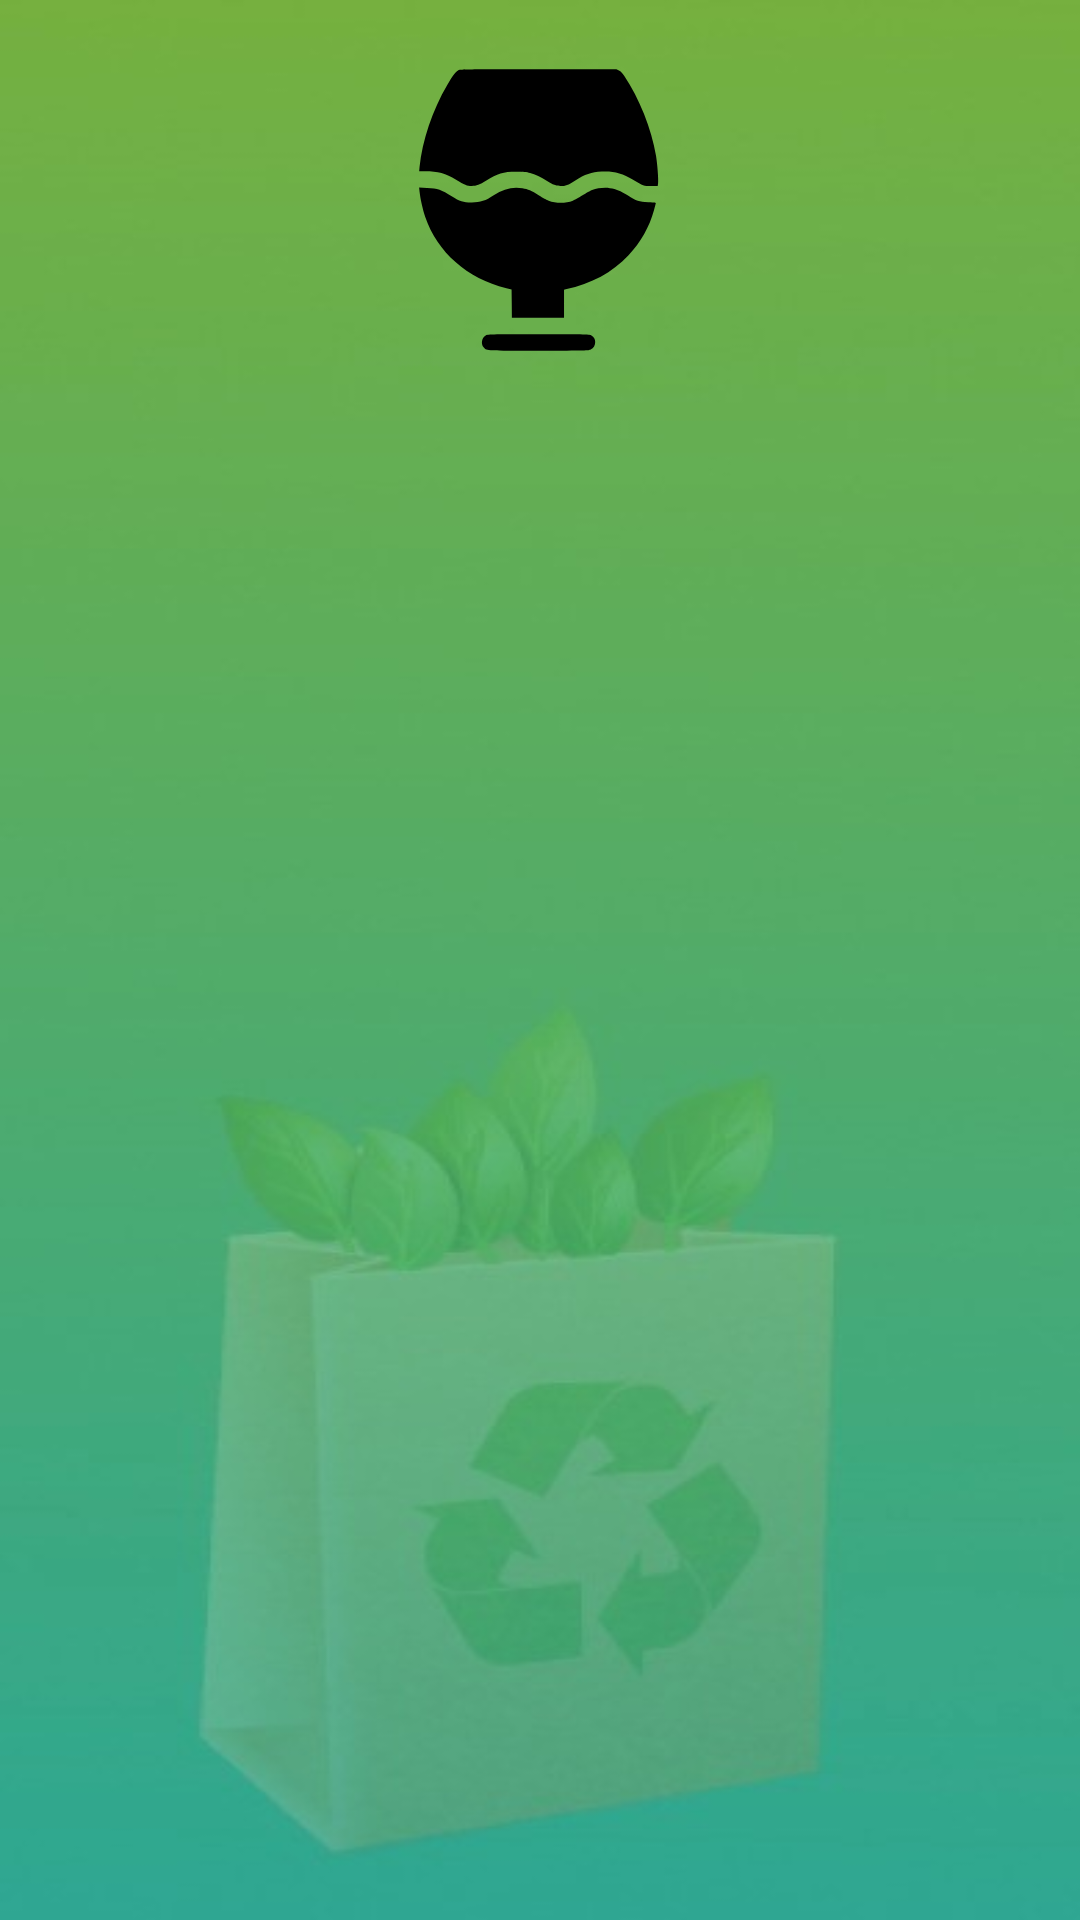

Screen size 1080px x 1920px. Icon name, then its box in pixels as BBox(x1, y1, x2, y2):
glass: BBox(419, 69, 658, 351)
